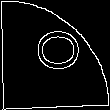O_W: (28, 32, 82, 78)
